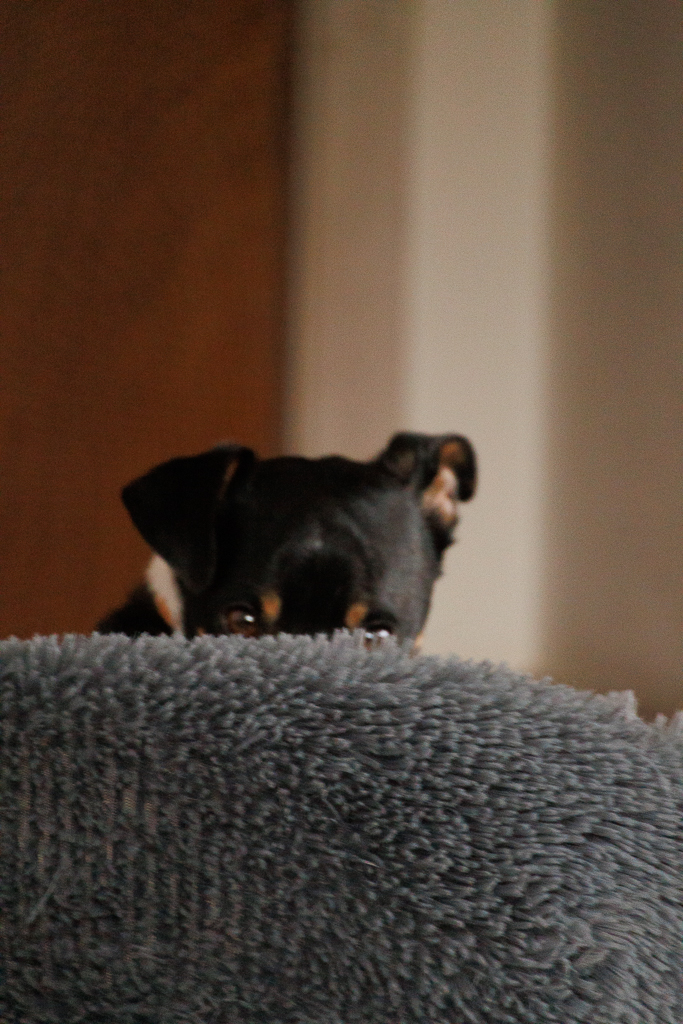Dog: (75, 424, 492, 663)
